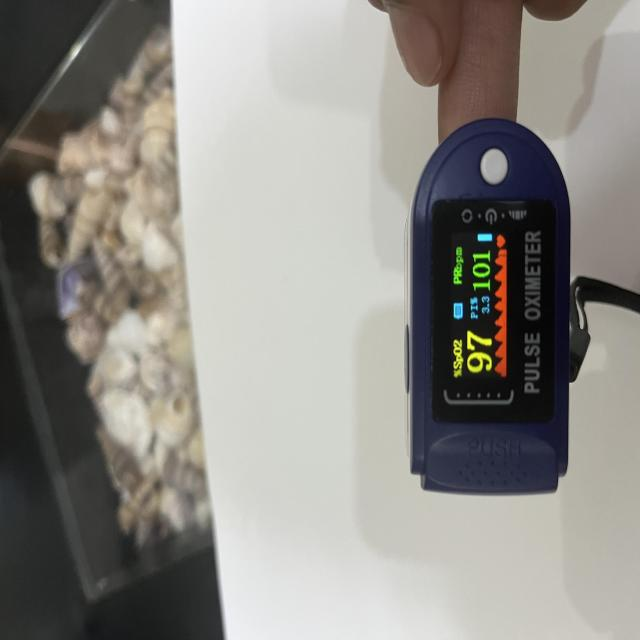spo2: (405, 118, 576, 498)
